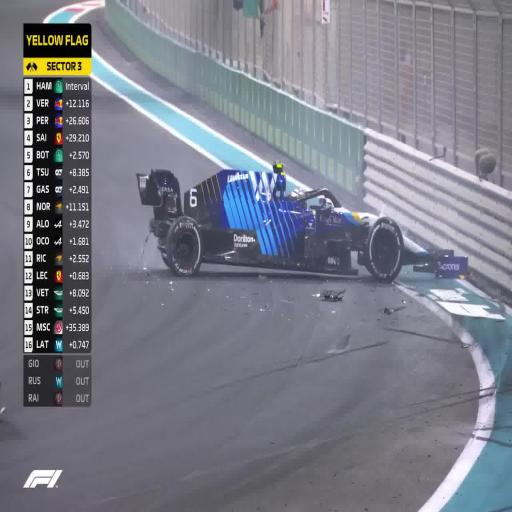f1_car: (137, 163, 467, 281)
